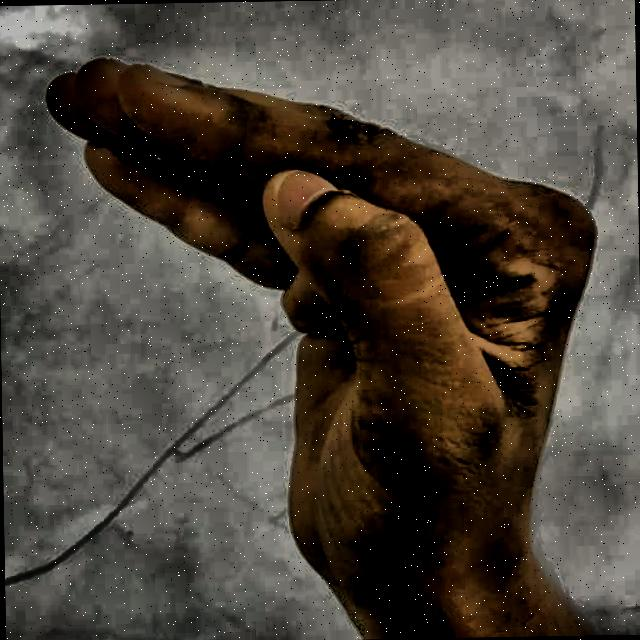Ga: (29, 19, 621, 603)
